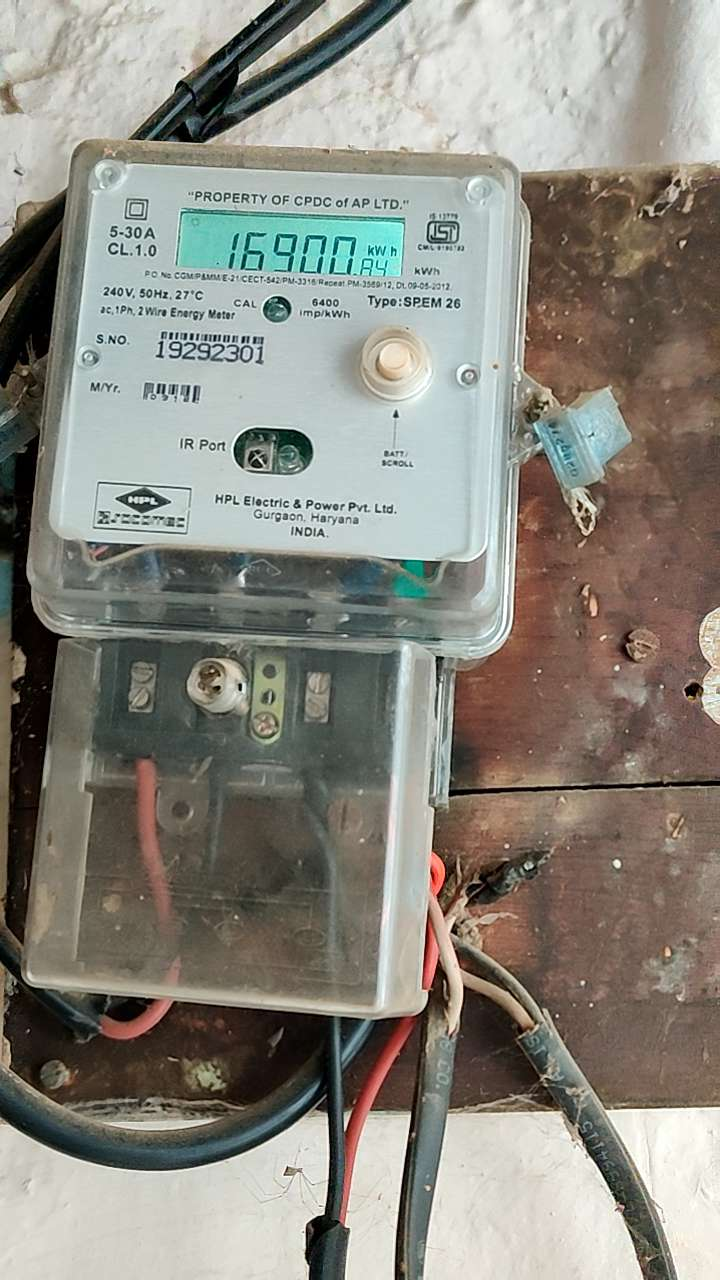meter_serial_number: (147, 337, 269, 372)
